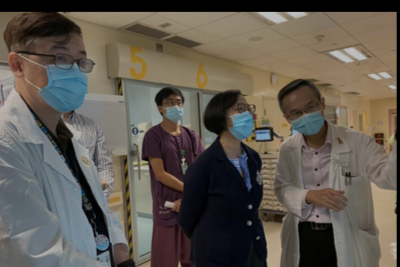with_mask: (23, 43, 89, 112), (284, 101, 325, 134), (227, 100, 255, 138), (161, 97, 185, 122)
